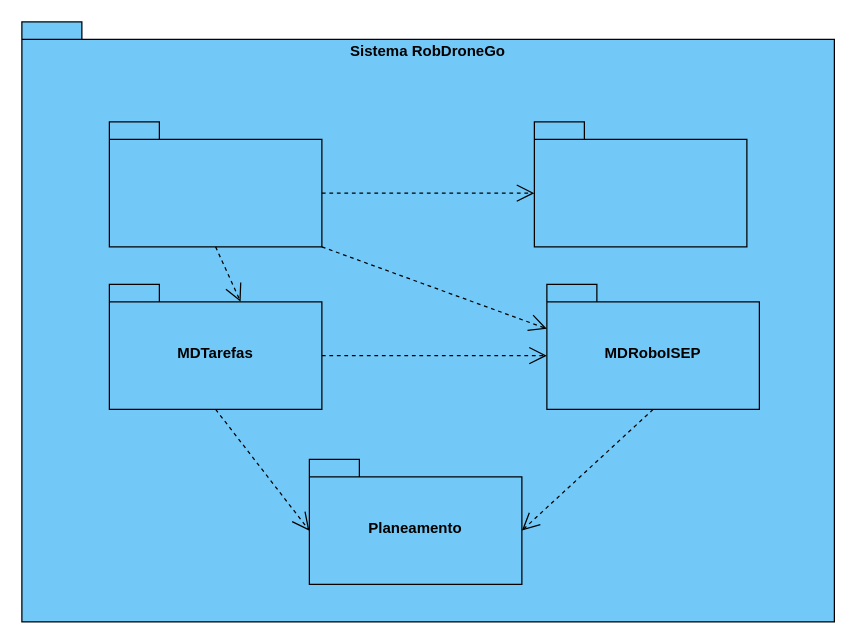
This 856x644 diagram has some shape labels left out. Here are the shapes that lost their labels. From the top down, the centre of each, then its label:
At pixel 215 184: "SPA".
At pixel 640 184: "Auth".
